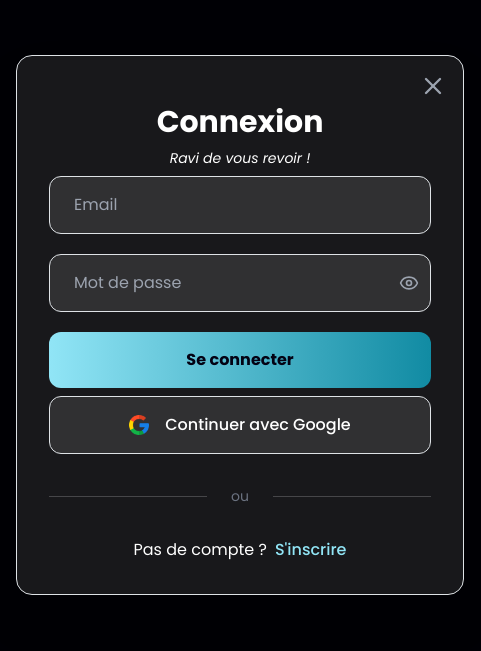
Test: ConnexionModal › should switch to signup form when clicking 'S'inscrire'
Click the button "S'inscrire".
click(311, 550)  # box x1=275 y1=538 x2=346 y2=562
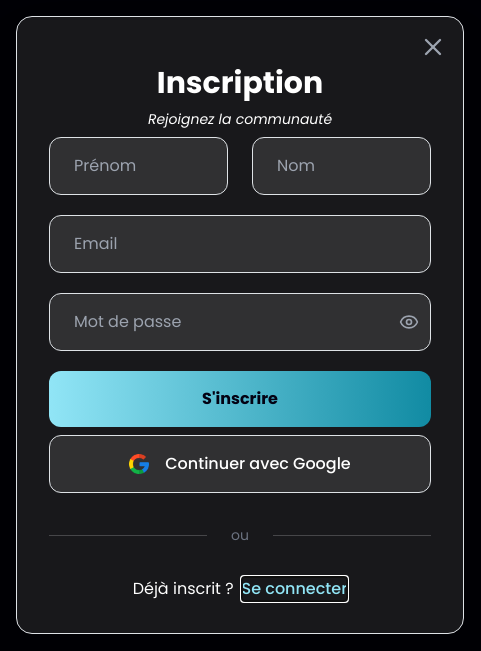
Now the heading "Inscription" is shown, box x1=157 y1=62 x2=323 y2=104
Now the field with placeholder "Prénom" is shown, box x1=49 y1=137 x2=228 y2=195
Now the field with placeholder "Nom" is shown, box x1=252 y1=137 x2=431 y2=195
